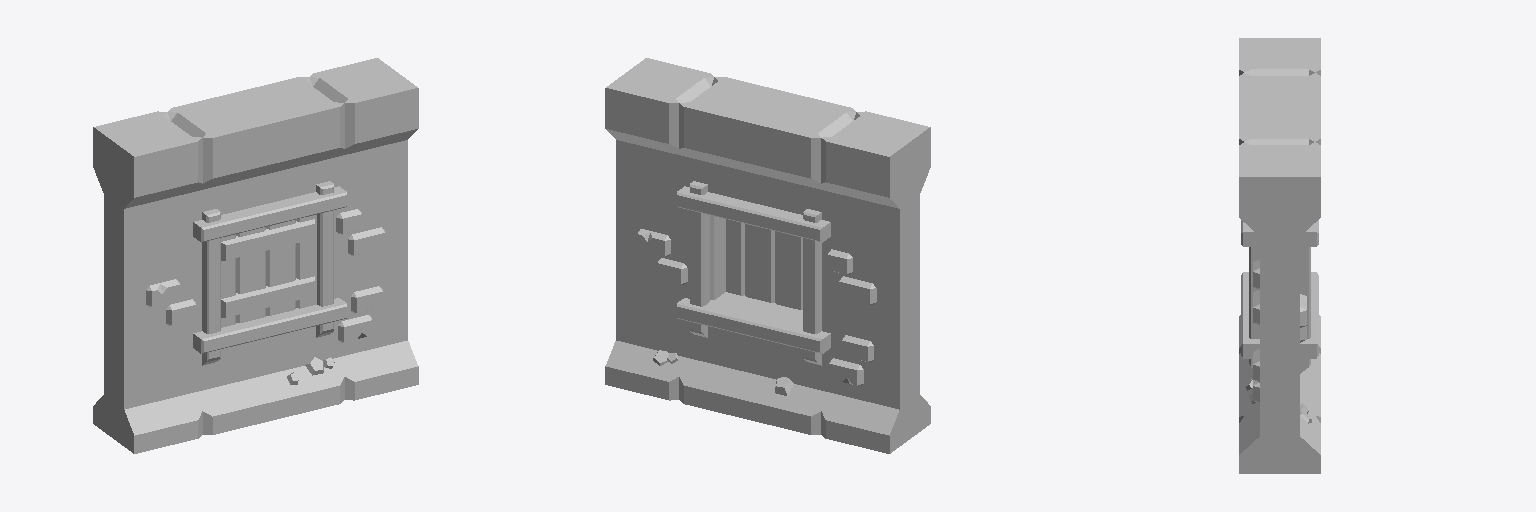
File: wall_window_closed.obj
The picture shows the model from 3 angles: view 1: azimuth 30°, elevation 25°; view 2: azimuth 150°, elevation 25°; view 3: azimuth 270°, elevation 25°; orthographic projection.
Visible parts, largest first — view 1: wall_window_closed; view 2: wall_window_closed; view 3: wall_window_closed.
Boxes of the visible parts, box(x1,y1,x2,y2) form: wall_window_closed: box(93, 58, 418, 453); wall_window_closed: box(605, 58, 930, 453); wall_window_closed: box(1239, 38, 1320, 473).
Bounding box in the file's own units: 4 × 4 × 1.